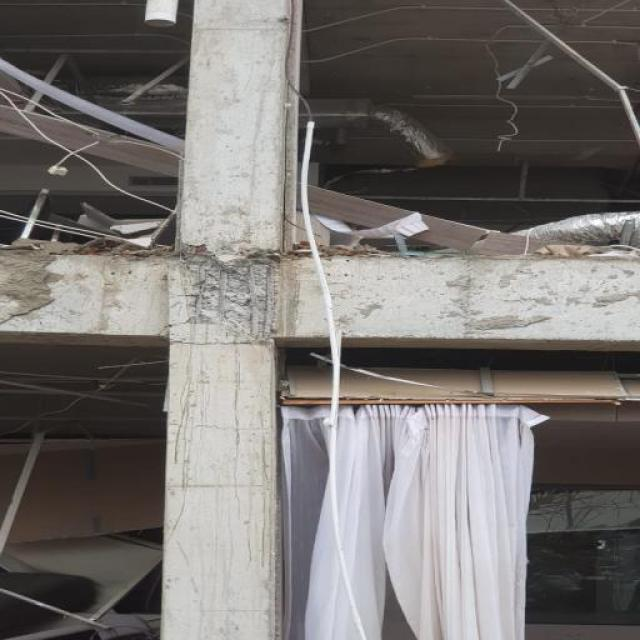D0w0: (180, 245, 278, 341)
